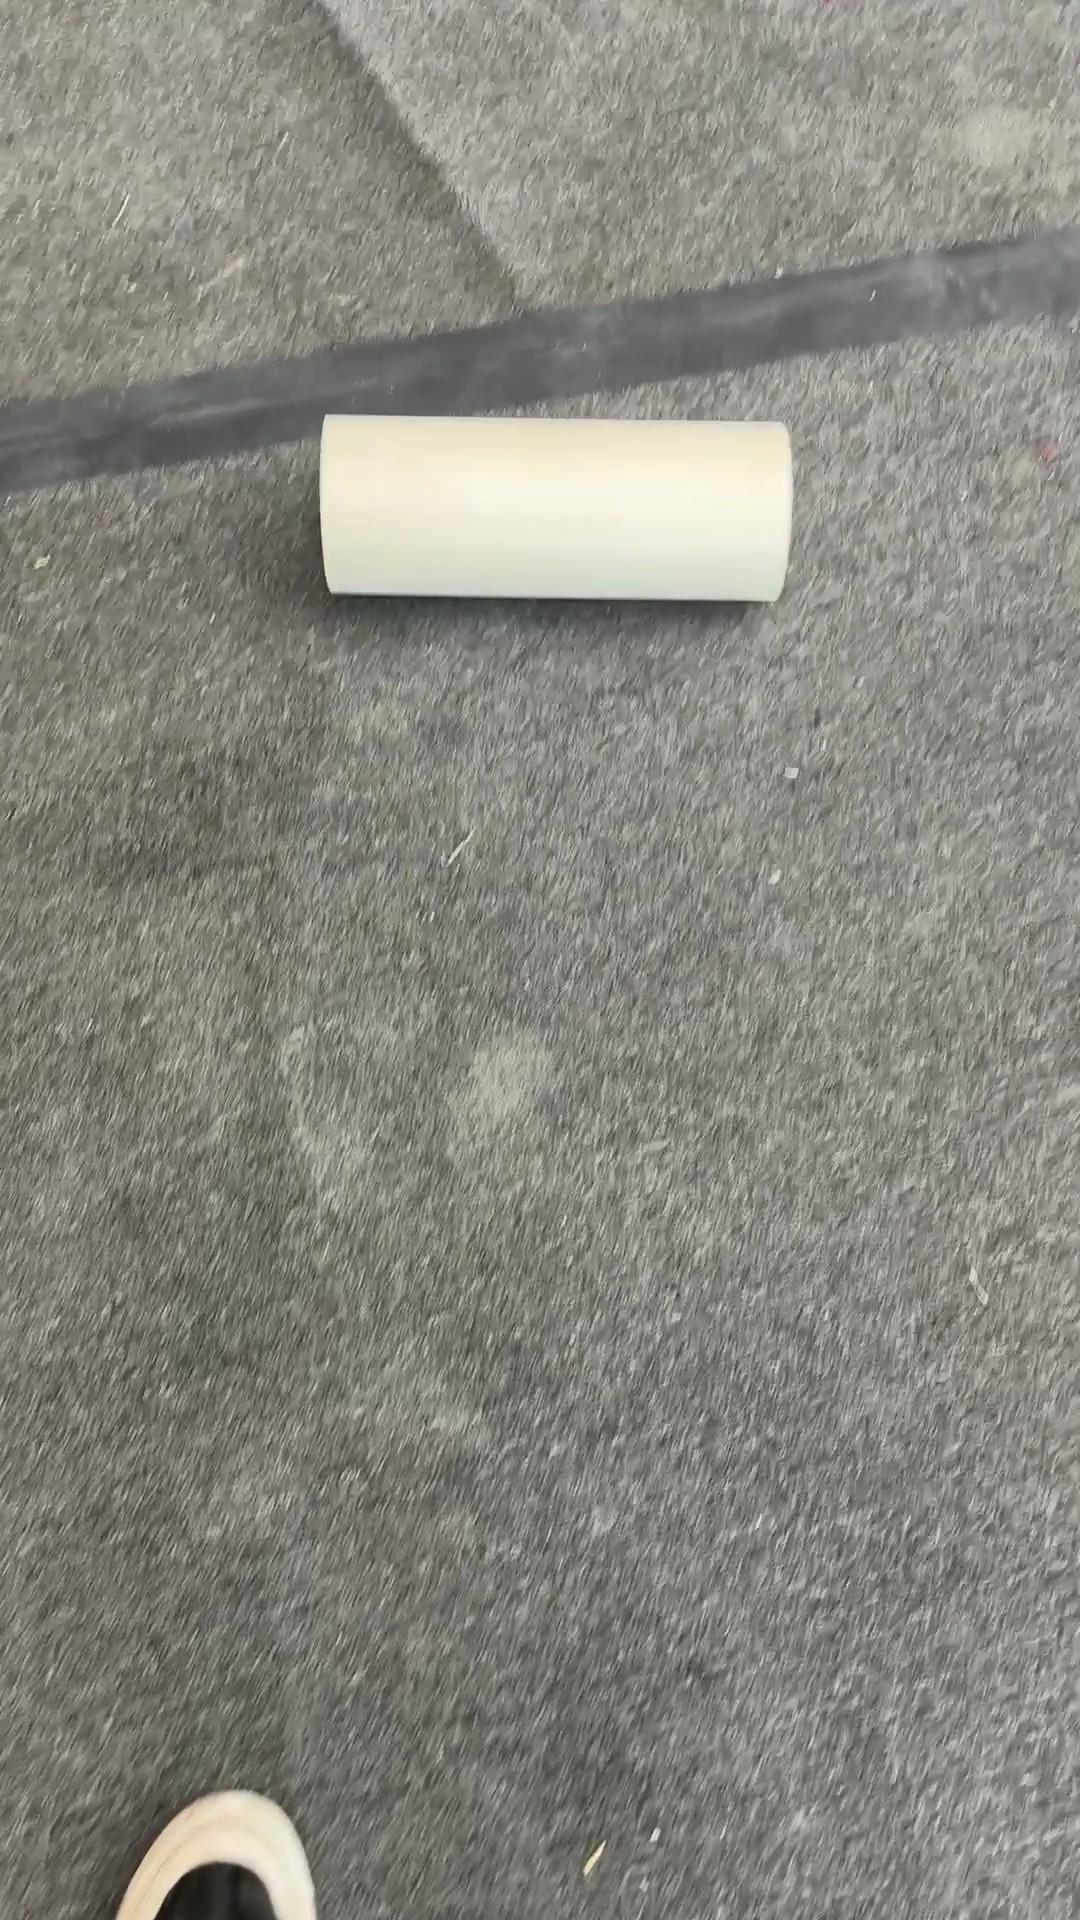CORAL: (315, 409, 794, 604)
